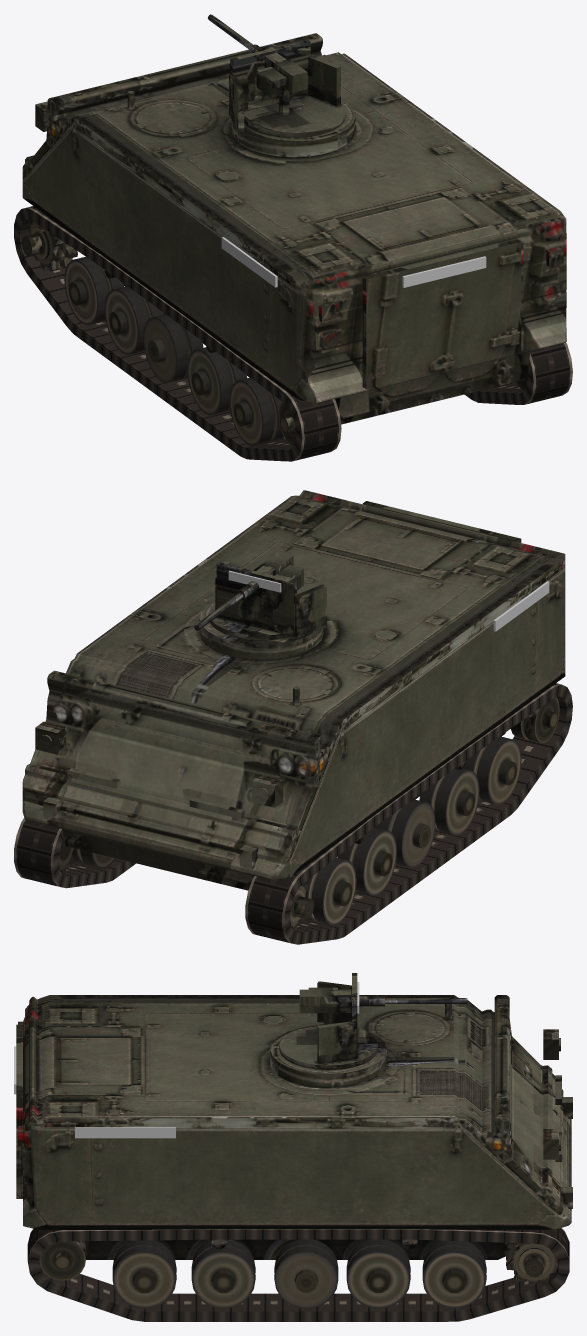
The picture shows the model from 3 angles, top to bottom: view 1: azimuth 30°, elevation 25°; view 2: azimuth 150°, elevation 25°; view 3: azimuth 270°, elevation 25°; orthographic projection. The views are drawn at different scales.
Visible parts, largest first — view 1: Hull, TrackL, Turret, TrackR, WheelL2, WheelL4, WheelL3, WheelL0, WheelL1, Gun, SprocketL; view 2: Hull, TrackL, Turret, TrackR, WheelL3, WheelL4, WheelL0, WheelL1, WheelL2, Gun, IdlerL, SprocketL (+1 smaller); view 3: Hull, TrackR, Turret, WheelR1, WheelR2, WheelR4, WheelR0, WheelR3, Gun, SprocketR, IdlerR.
Part boxes in pixels (x1,y1,x2,y2): Hull: (22,33,566,424); TrackL: (14,206,341,461); Turret: (229,39,355,157); TrackR: (464,342,572,404); WheelL2: (143,314,203,383); WheelL4: (229,377,283,446); WheelL3: (187,347,247,415); WheelL0: (64,257,123,325); WheelL1: (105,286,163,354); Gun: (208,14,307,98); SprocketL: (22,221,77,271); Hull: (22,490,565,890); TrackL: (245,683,572,944); Turret: (199,561,326,659); TrackR: (14,818,135,888); WheelL3: (419,768,479,835); WheelL4: (463,736,521,805); WheelL0: (305,857,356,925); WheelL1: (337,827,396,896); WheelL2: (376,799,435,868); Gun: (194,552,303,630); IdlerL: (511,697,559,743); SprocketL: (290,882,314,930); Hull: (14,995,572,1259); TrackR: (27,1228,569,1321); Turret: (270,973,386,1088); WheelR1: (346,1239,410,1308); WheelR2: (274,1239,338,1308); WheelR4: (112,1240,176,1308); WheelR0: (422,1240,486,1308); WheelR3: (191,1239,255,1308); Gun: (299,987,467,1012); SprocketR: (506,1242,557,1286); IdlerR: (39,1241,85,1280).
Size of the model in its own units: 2.73 by 2.68 by 4.99.
Materials: 3 (2 with a texture image).
